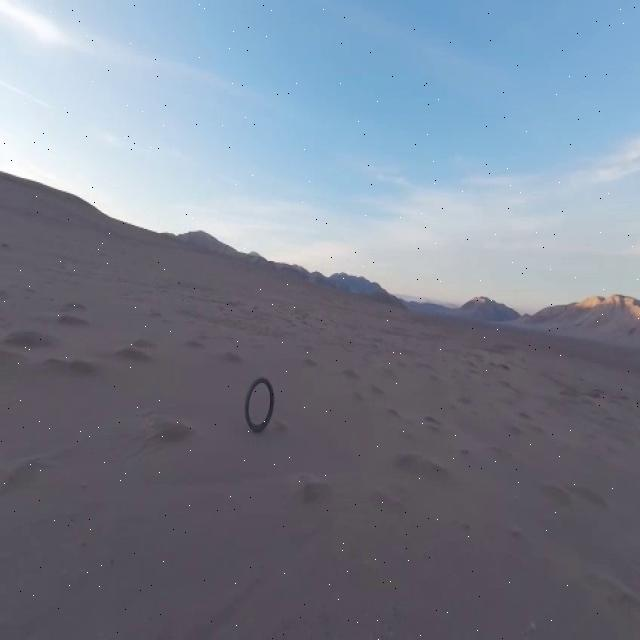Tire: (246, 378, 274, 432)
